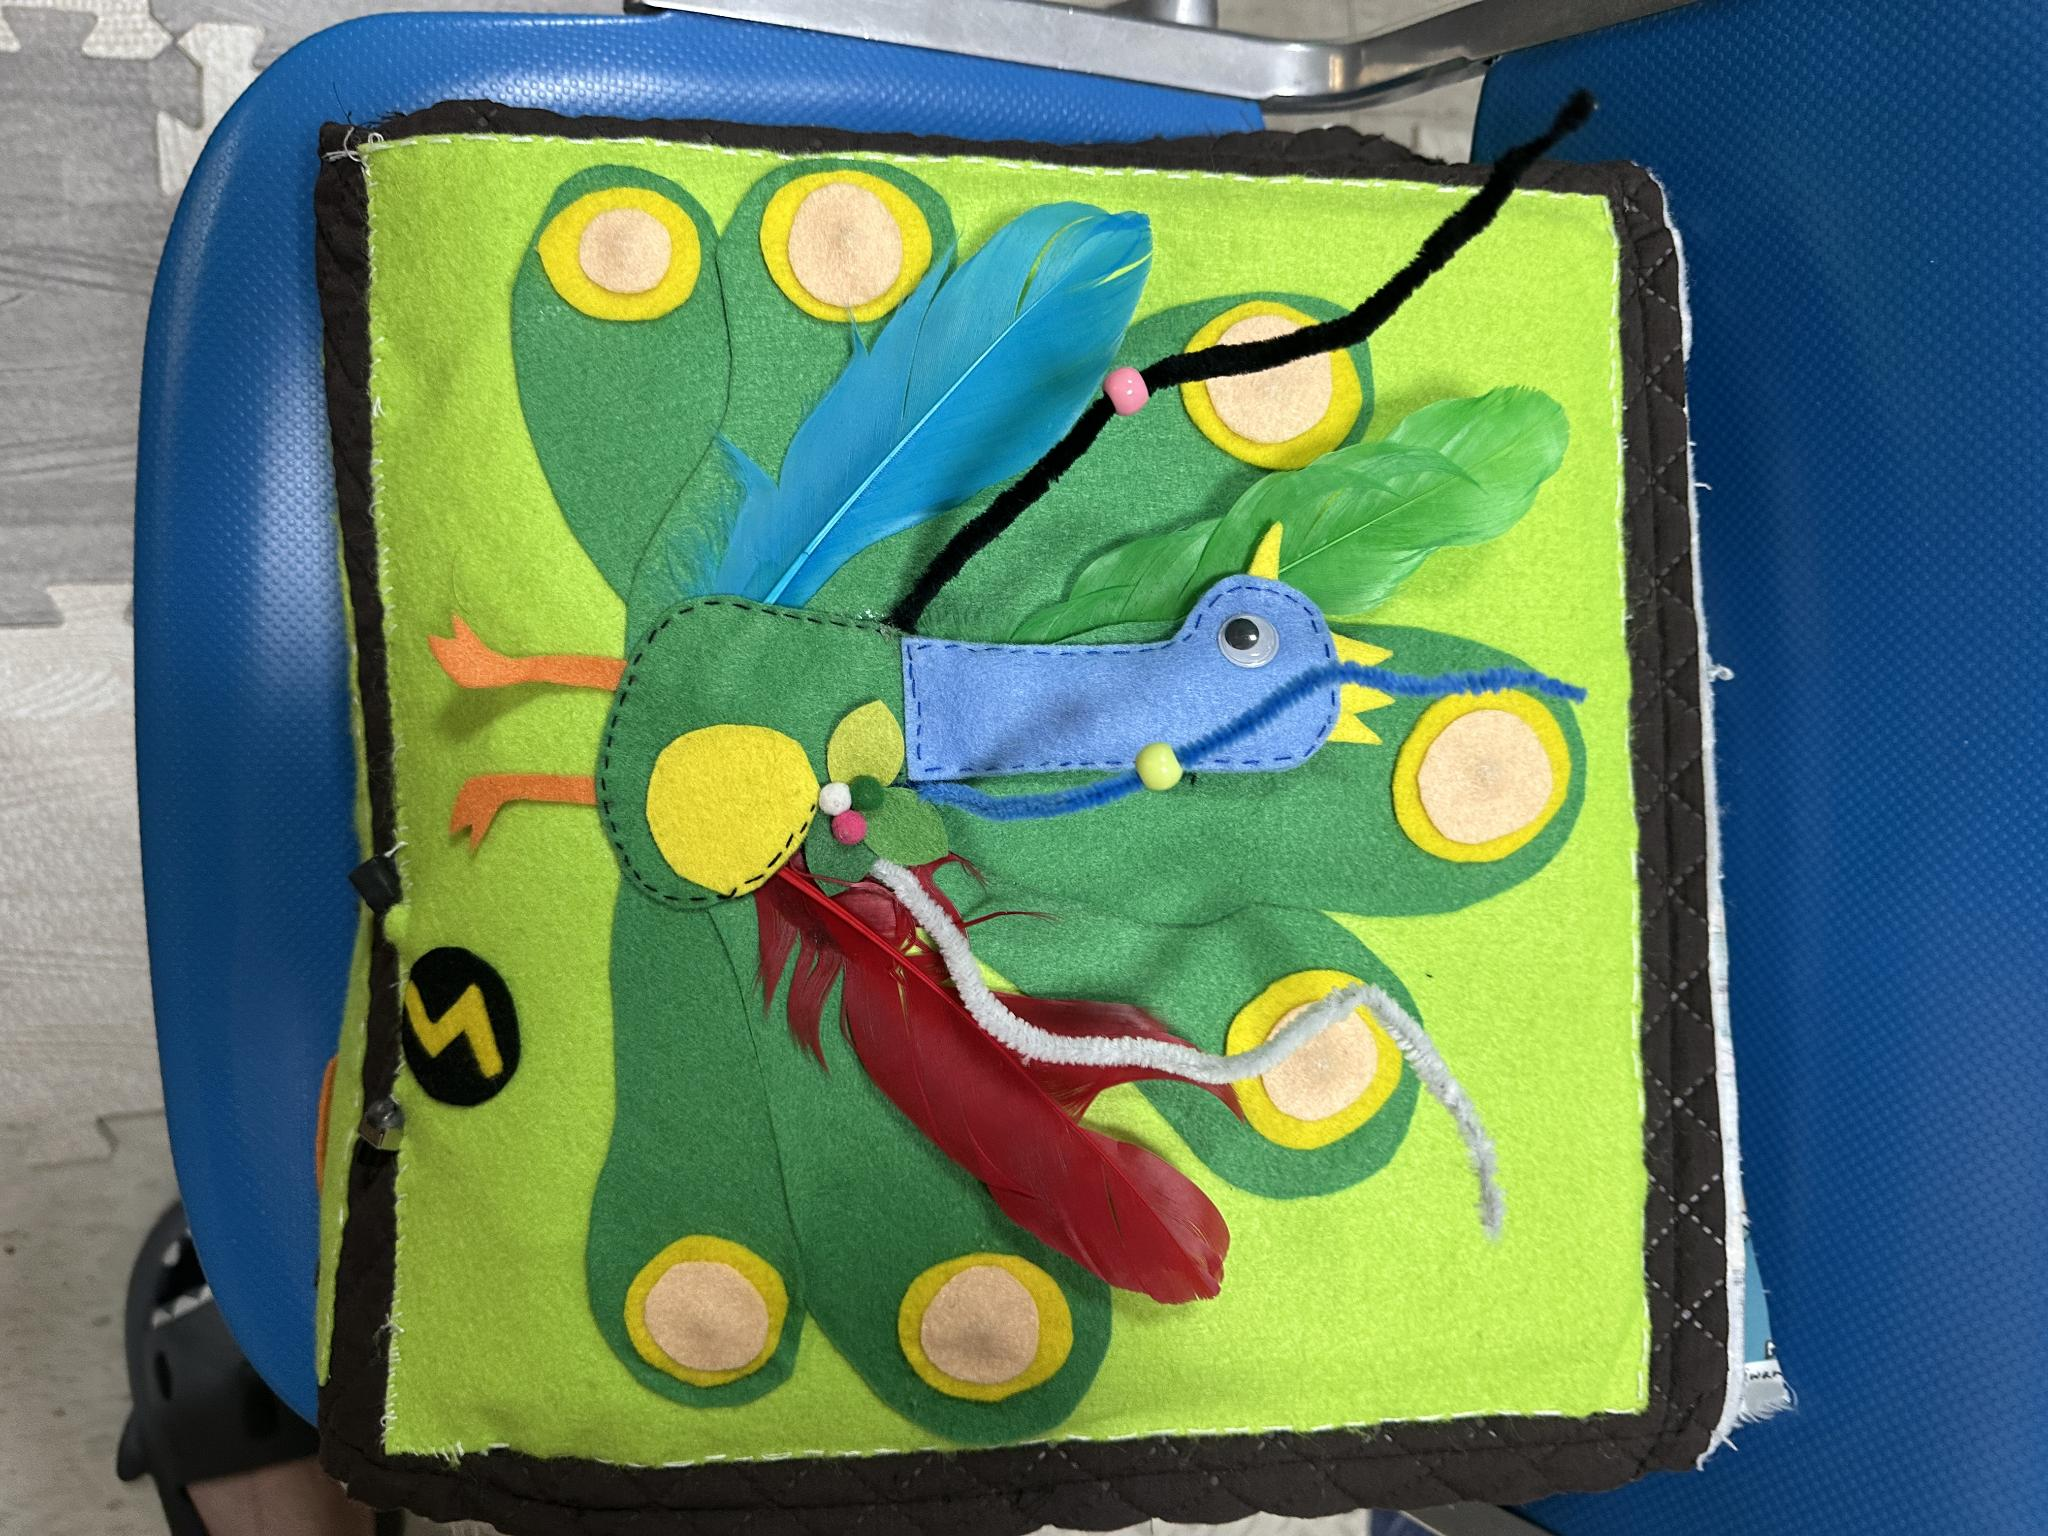bead: (1127, 724, 1201, 816), (1092, 352, 1161, 431)
